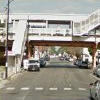crosswalk: (0, 86, 87, 92)
